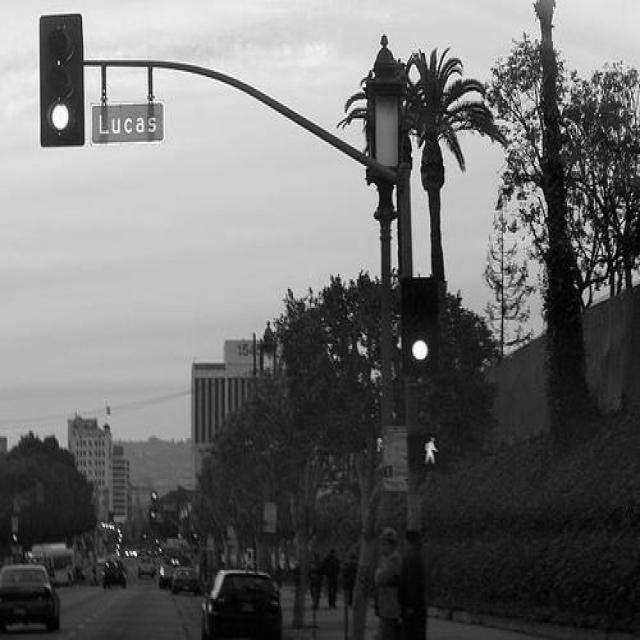vehicle: (201, 570, 284, 640), (0, 565, 60, 633), (169, 567, 201, 596), (103, 562, 127, 591), (137, 555, 157, 579), (163, 553, 191, 567), (160, 577, 171, 591)
